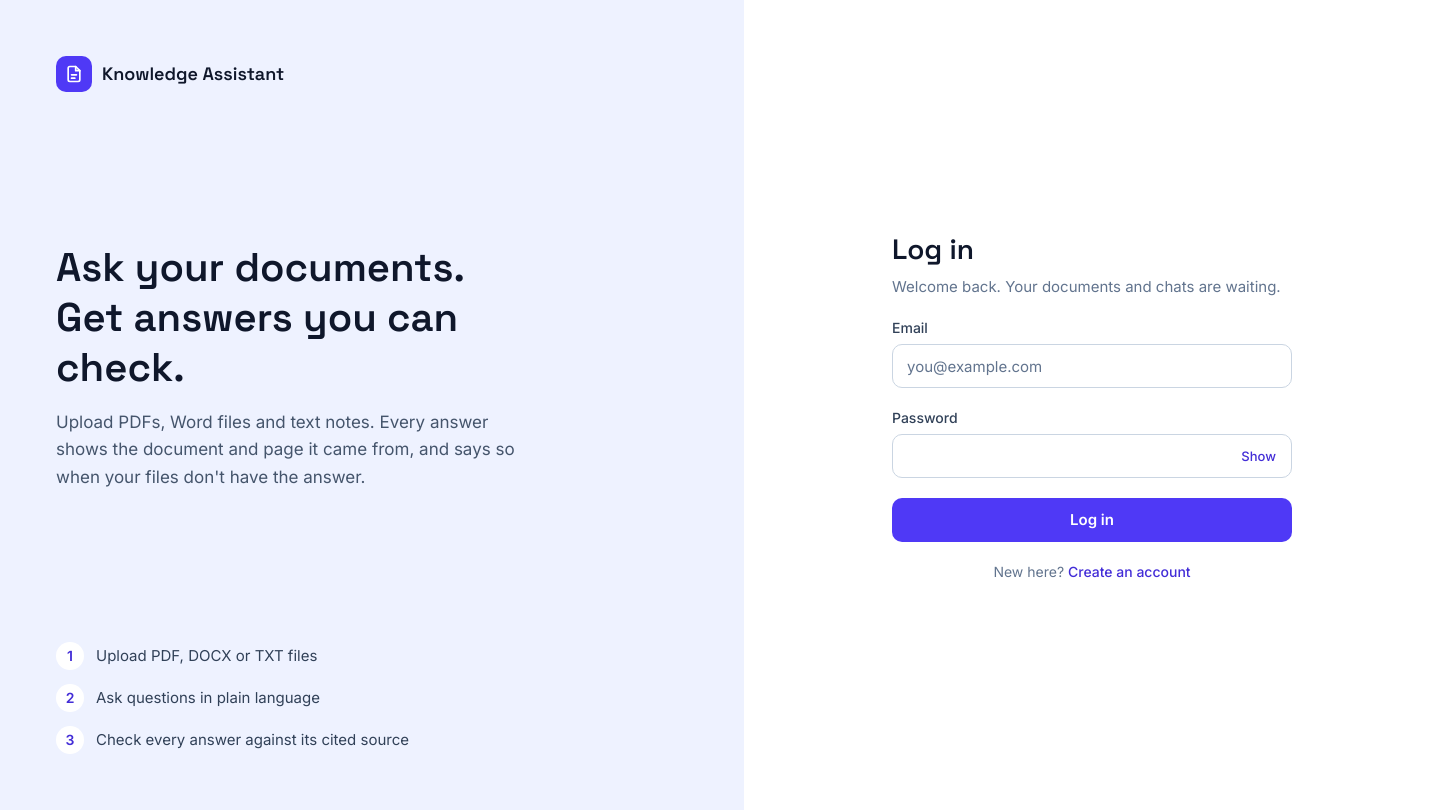
Scenario: LoginPage › checks the fields before calling the API
The width and height of the screenshot is (1440, 810).
In the field labelled "Email": (1092, 366) [892,344,1292,388], type "not-an-email"
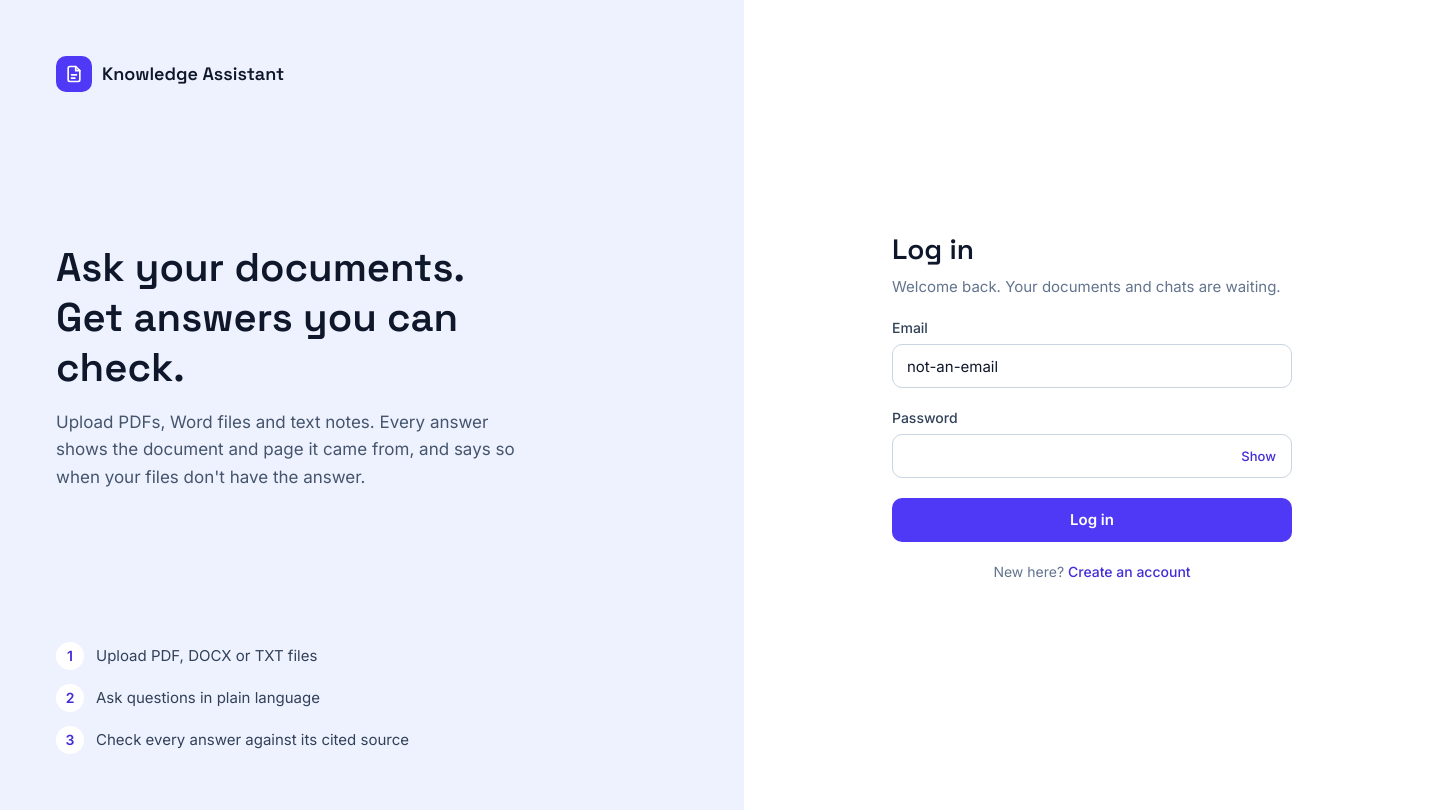
Click the button "Log in": (1092, 520) [892,498,1292,542]
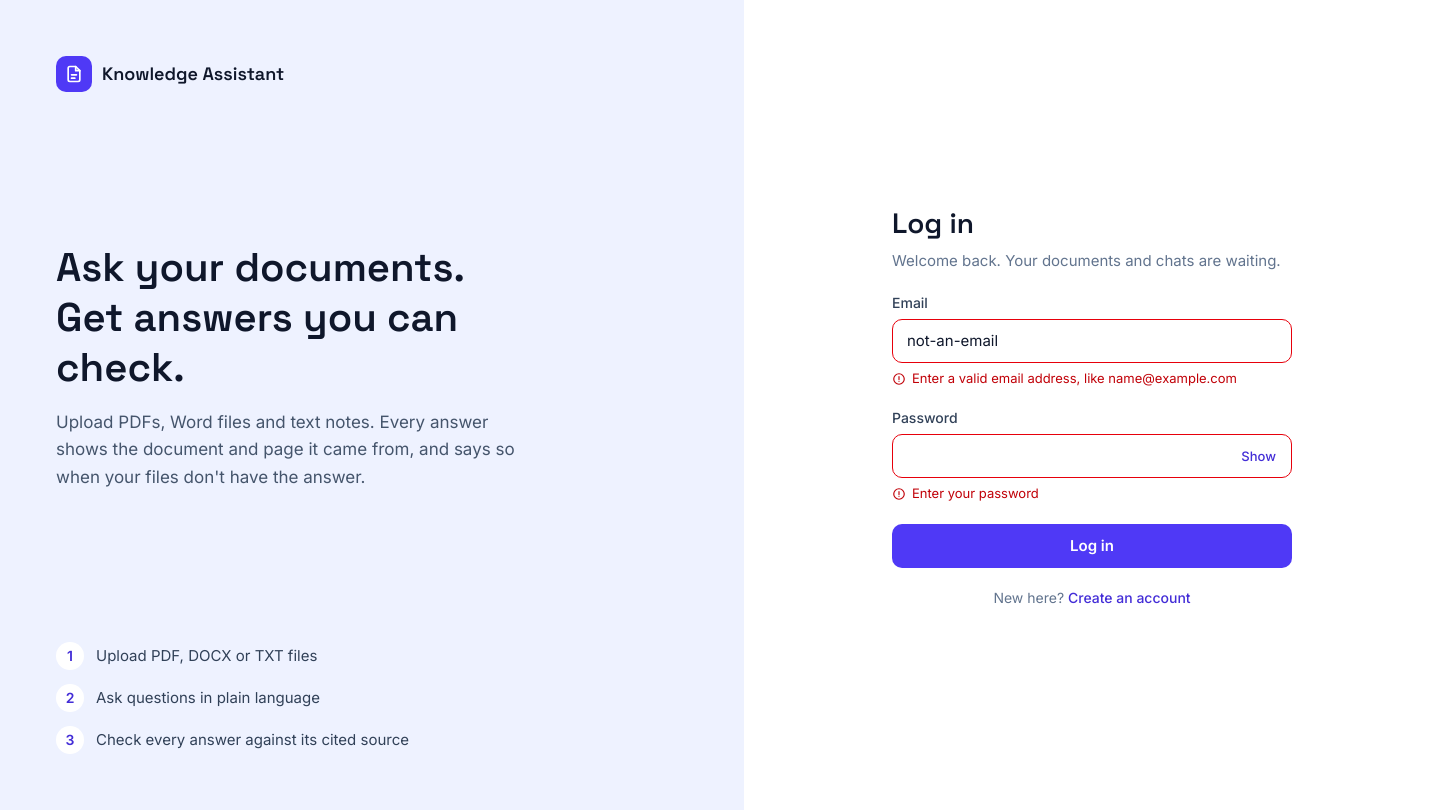
Now the text "Enter a valid email address, like name@example.com" is shown, box [892,369,1292,388]
Now the text "Enter your password" is shown, box [892,485,1039,501]
